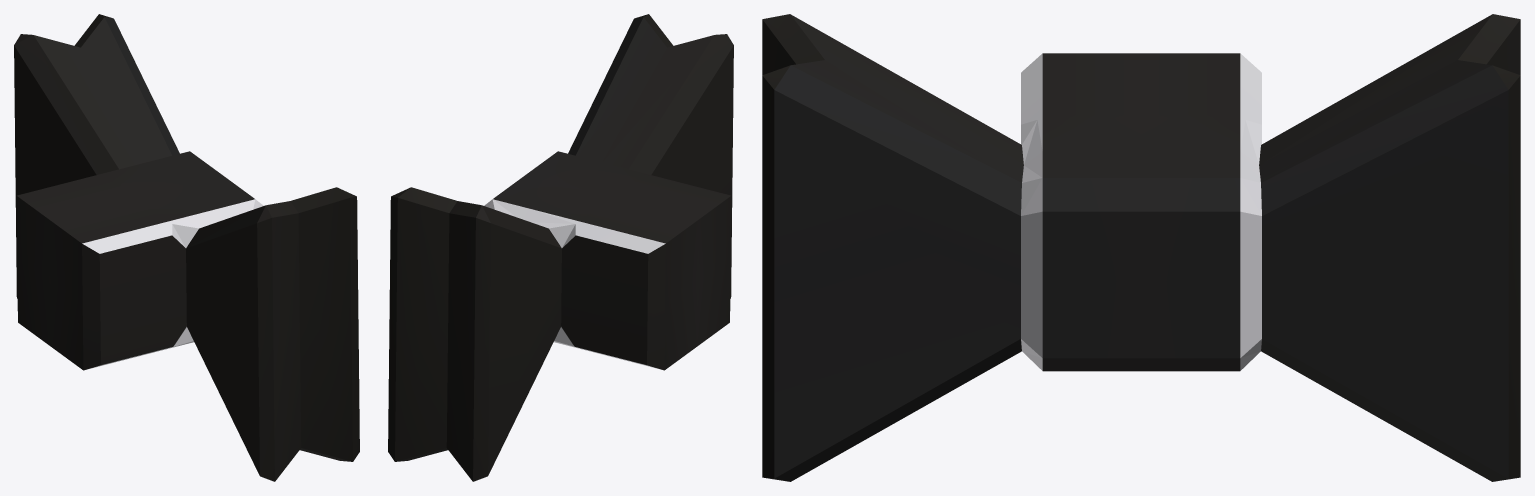
The model's file is BOWTIE.fbx.
The picture shows the model from 3 angles, left to right: view 1: azimuth 30°, elevation 25°; view 2: azimuth 150°, elevation 25°; view 3: azimuth 270°, elevation 25°; orthographic projection. The views are drawn at different scales.
Parts seen in each view (by area): view 1: BOWTIE; view 2: BOWTIE; view 3: BOWTIE.
Boxes of the visible parts, x1,y1,x2,y2 form: BOWTIE: (14,14,359,481); BOWTIE: (388,14,733,481); BOWTIE: (762,14,1520,481).
Size of the model in its own units: 3.66 by 5.1 by 8.42.
